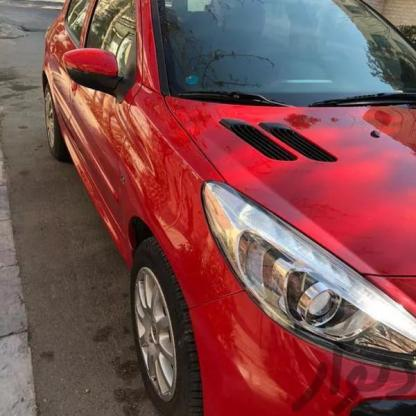Car: (27, 0, 416, 416)
